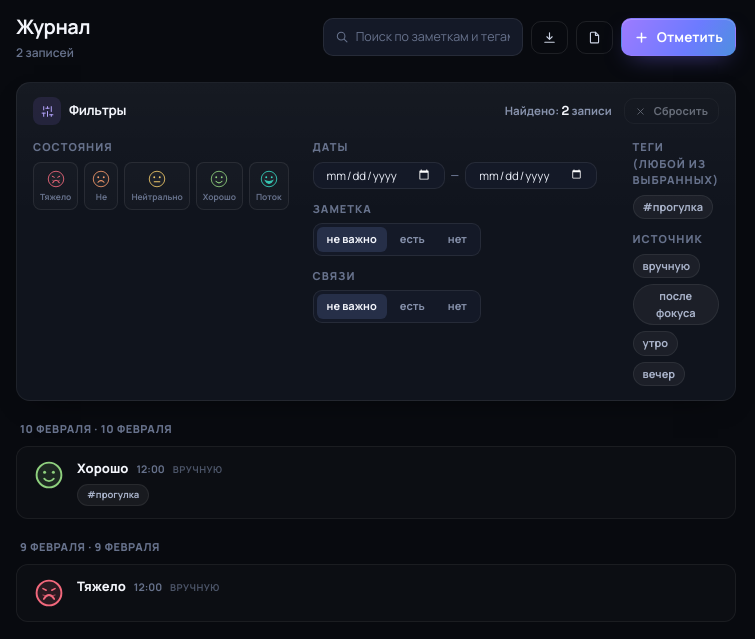
Test case: Панель фильтров журнала › фильтр по состоянию скрывает остальные записи и обновляет счётчик
Click the button titled "Хорошо": click(219, 186) left=196, top=162, right=243, bottom=210
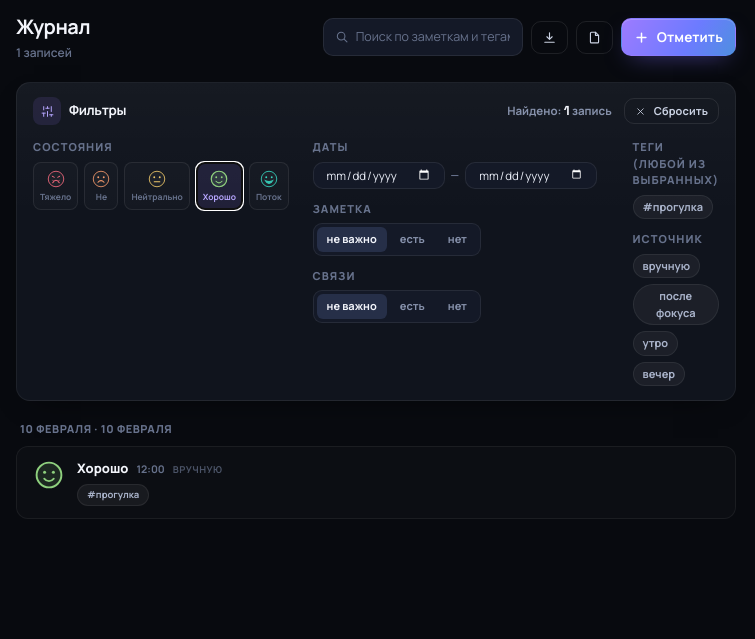
Now the text "Найдено: 1 запись" is shown, box left=507, top=101, right=612, bottom=121
